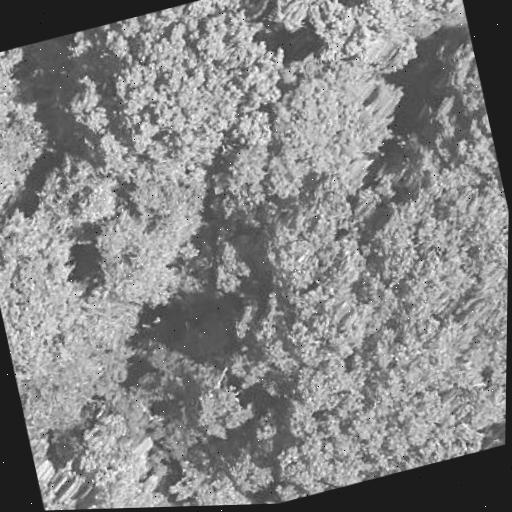tree-top: (74, 0, 289, 167), (281, 359, 469, 498), (257, 41, 416, 195), (221, 254, 390, 395), (0, 214, 93, 387), (417, 119, 510, 279), (251, 185, 373, 305), (355, 185, 466, 302), (79, 206, 189, 321), (59, 407, 164, 510), (122, 141, 222, 246), (29, 139, 129, 240), (179, 358, 264, 453), (352, 205, 435, 293), (455, 270, 508, 398), (427, 28, 490, 132), (174, 442, 274, 507), (124, 327, 200, 407), (0, 46, 47, 174), (49, 68, 120, 151), (195, 229, 262, 307), (243, 0, 349, 49), (214, 131, 280, 201), (34, 458, 92, 511), (404, 0, 469, 38), (490, 409, 506, 446), (335, 0, 413, 6)
